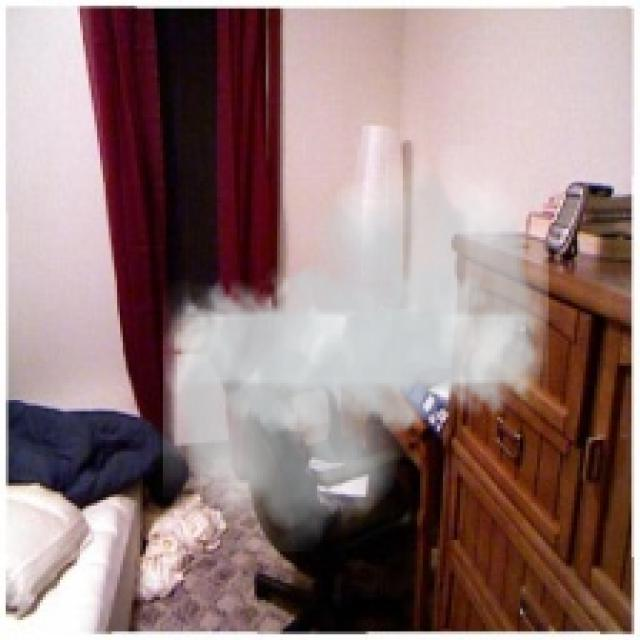smoke: (163, 146, 548, 551)
